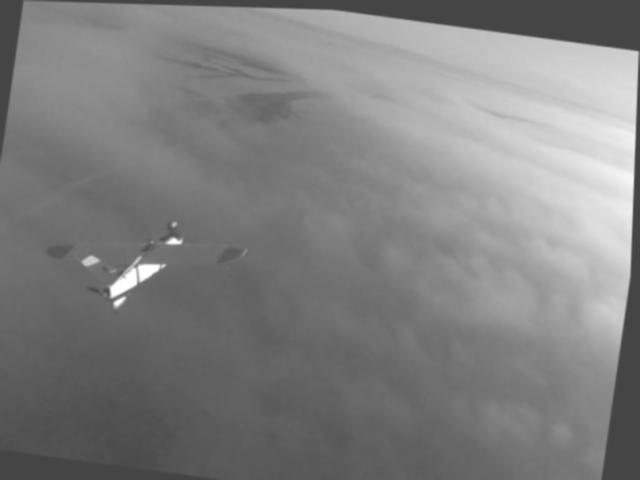hedef: (19, 206, 261, 320)
